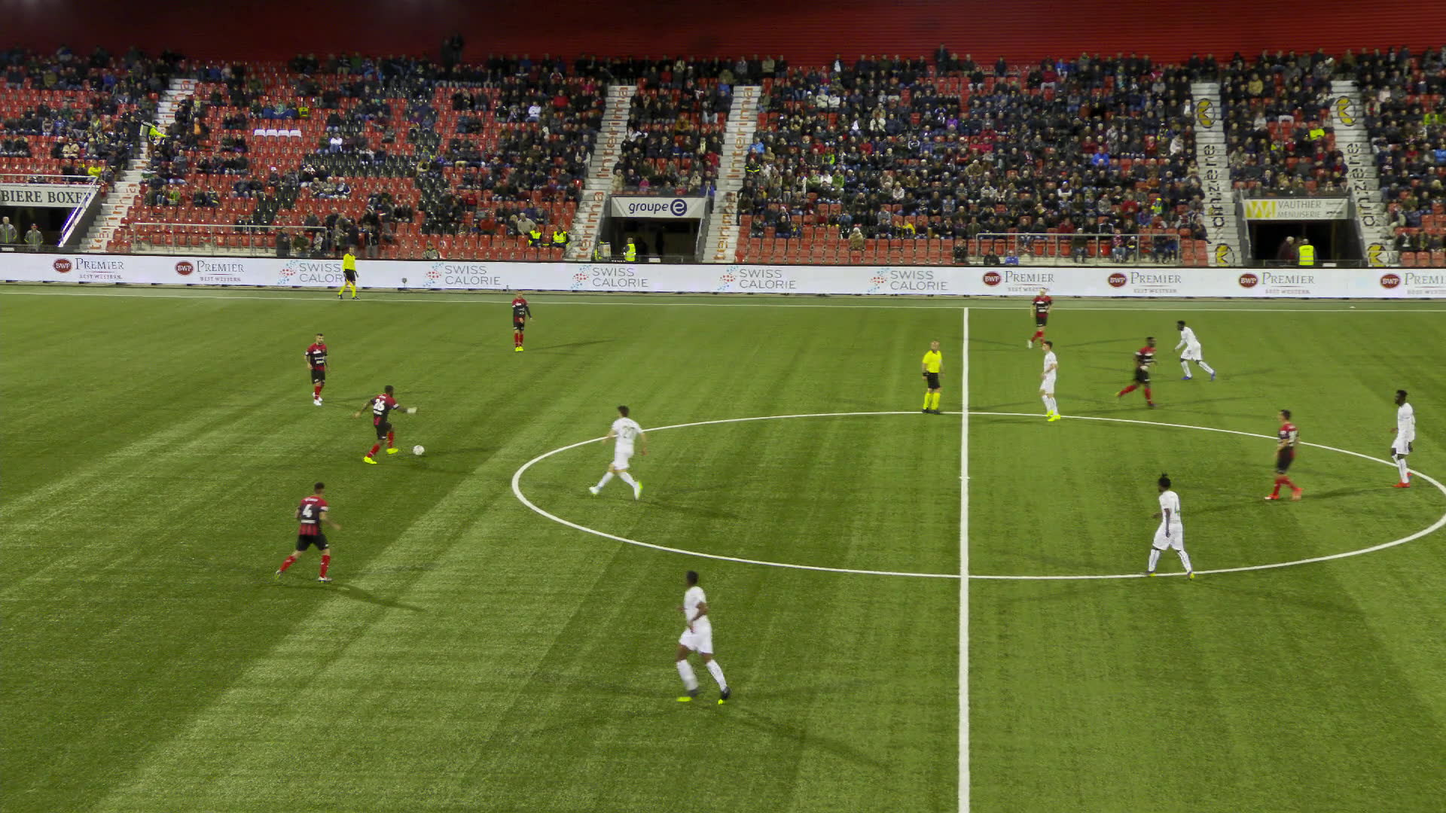ball: (410, 445, 423, 455)
player: (669, 571, 743, 703), (284, 477, 344, 584), (1146, 469, 1191, 580), (601, 408, 651, 501), (1251, 410, 1301, 502), (352, 381, 406, 464), (1387, 388, 1418, 488), (1113, 338, 1155, 408), (1170, 318, 1211, 381), (304, 332, 331, 405), (1037, 340, 1059, 422), (1023, 289, 1051, 349), (511, 289, 533, 352)
referee: (912, 341, 947, 415), (336, 246, 360, 300)
